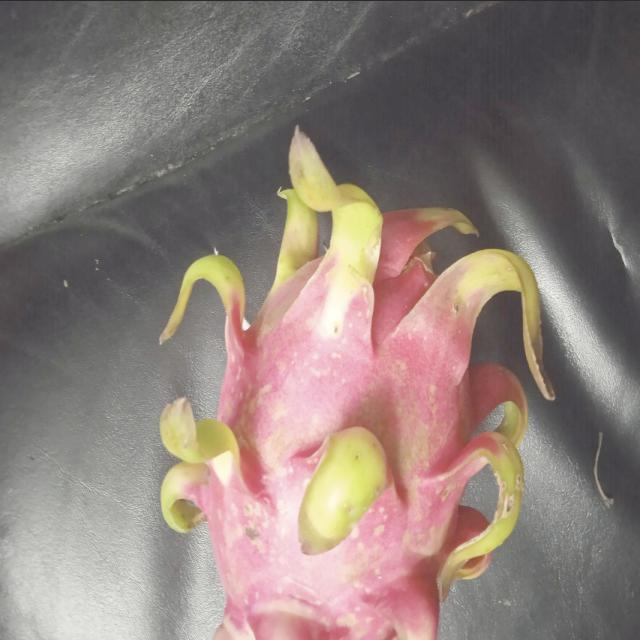do: (161, 125, 550, 639)
